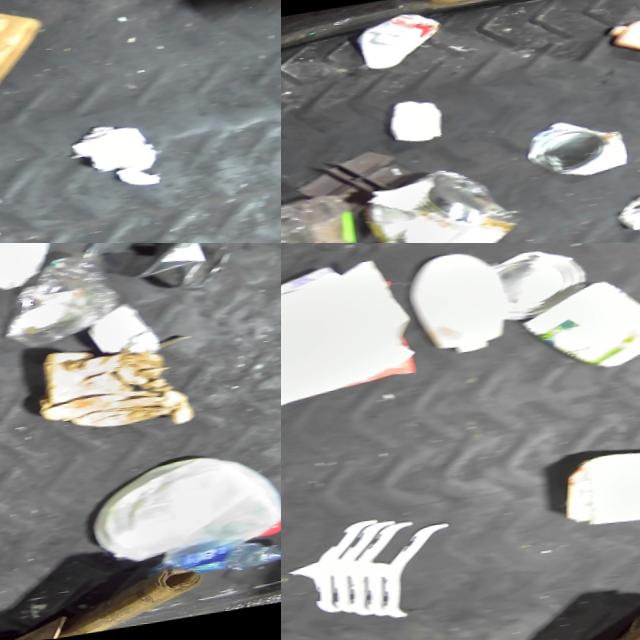can: (519, 116, 629, 189), (488, 247, 588, 326), (352, 10, 443, 73)
milk_jug: (281, 253, 419, 428), (88, 450, 278, 573), (551, 444, 640, 537)
plastic_bottle: (154, 539, 281, 588)
